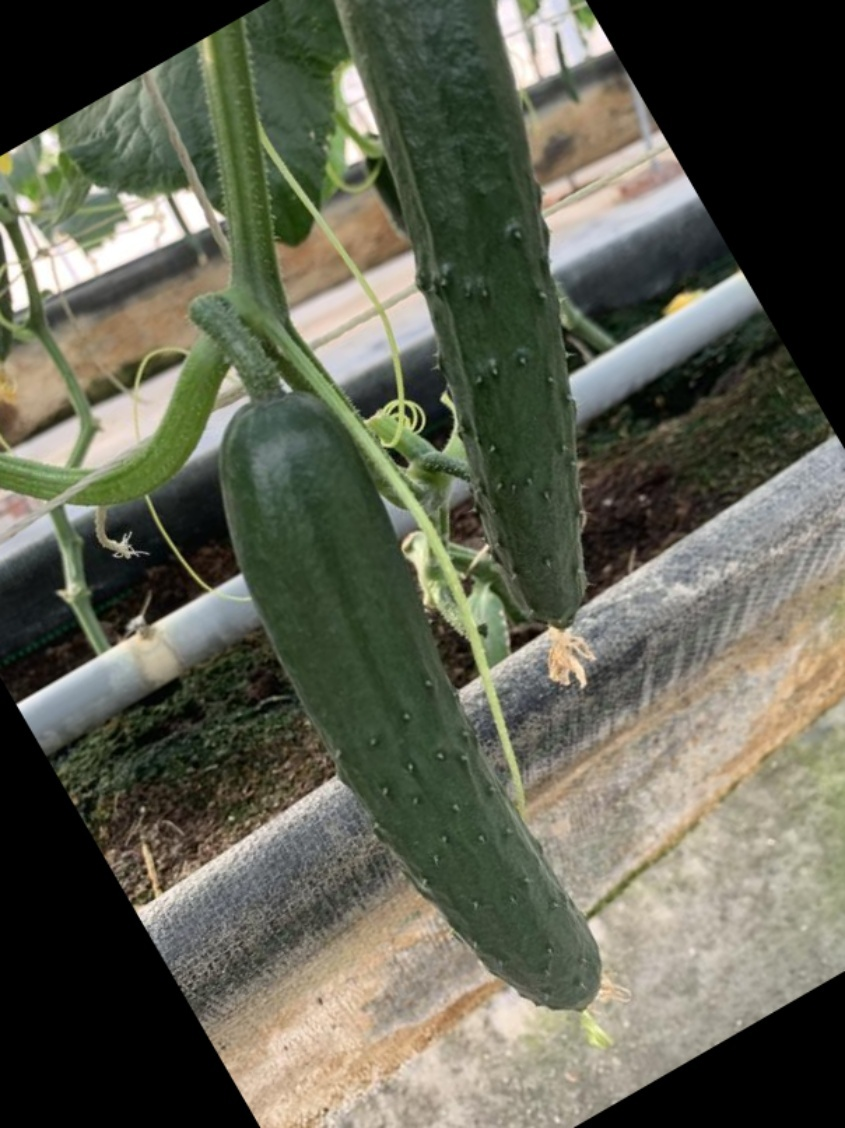mature: (332, 3, 601, 633)
